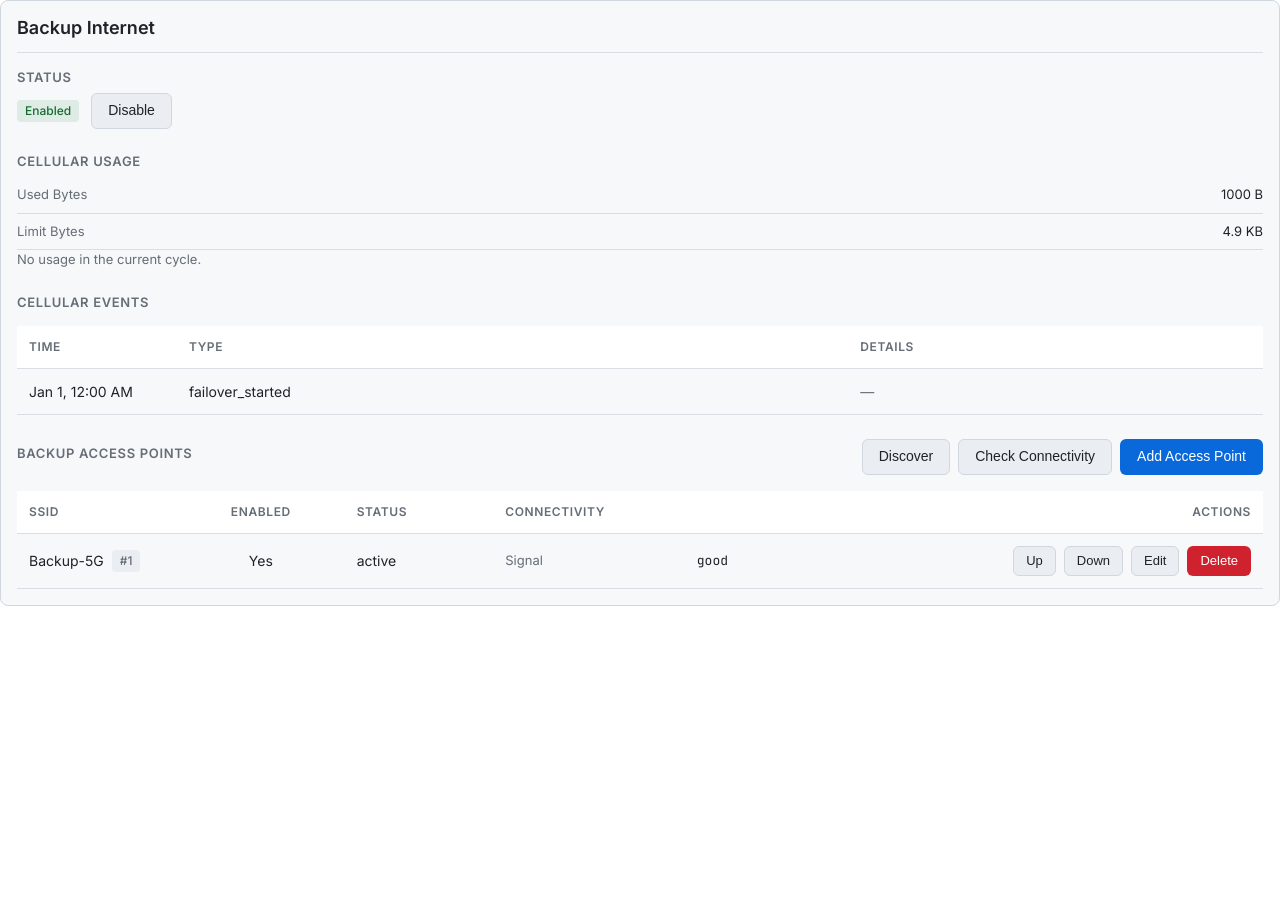
it: BackupInternetCard › a successful toggle confirmation re-fetches
Expected: the text "Backup-5G" is shown, [29,550,104,571]
Click the button "Disable" at (132, 111), box [91,93,172,129]
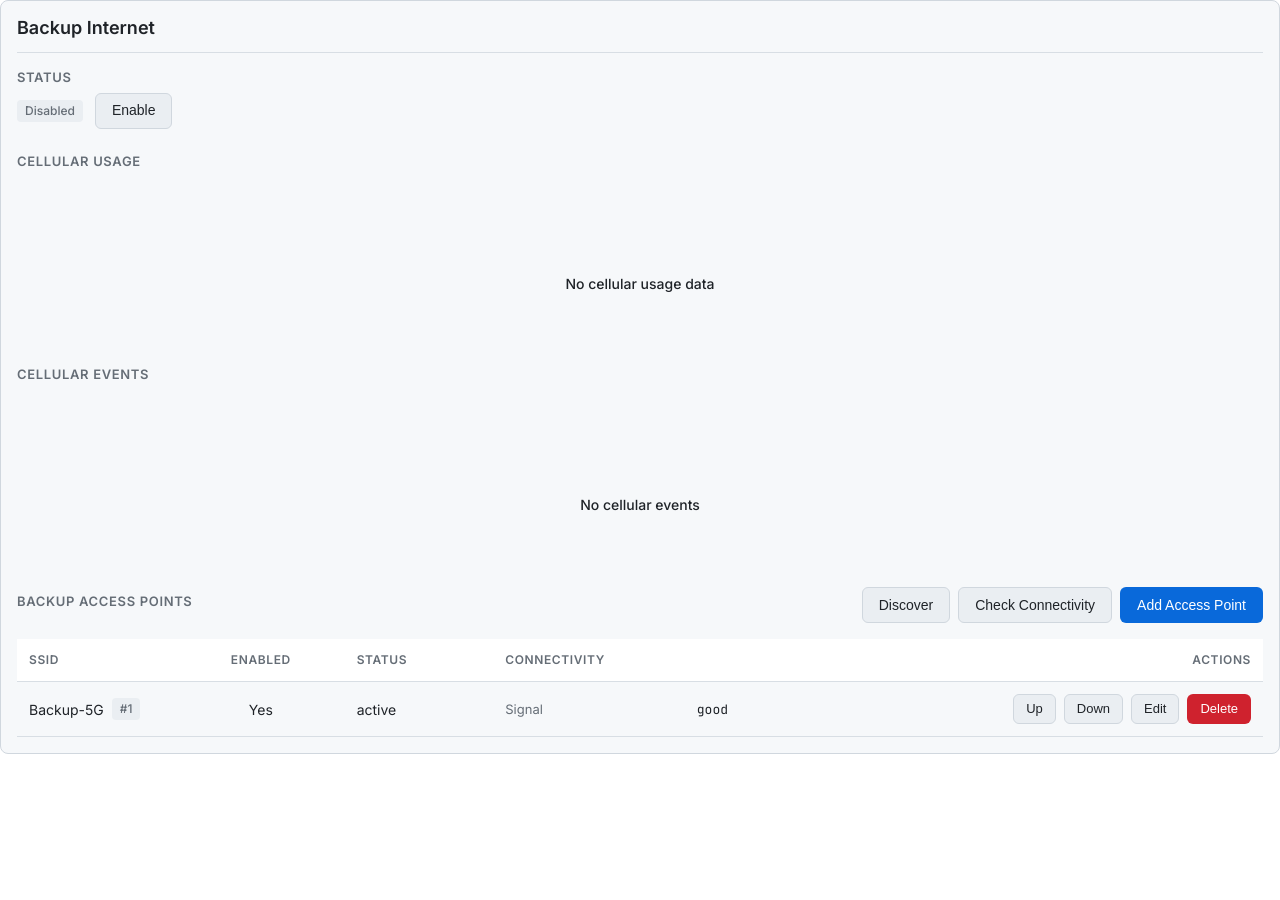
Expected: the button "Enable" is shown, [95,93,172,129]
